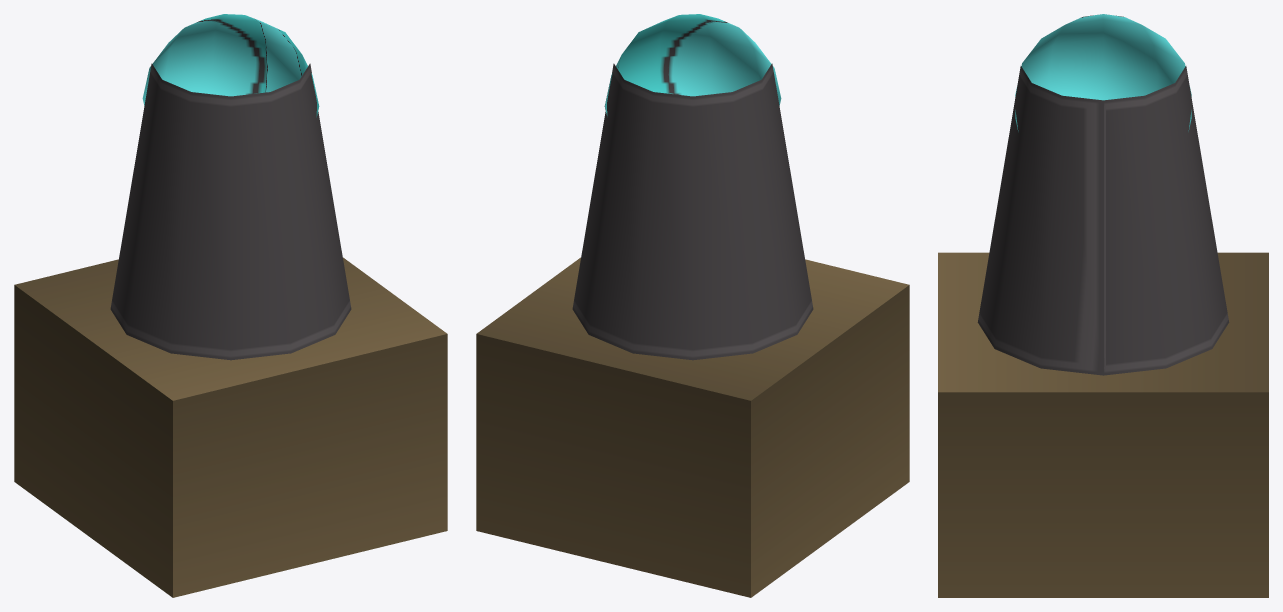
Rendered from panopticon_beacon.glb.
3 views of the same model, side by side, from view 1: azimuth 30°, elevation 25°; view 2: azimuth 150°, elevation 25°; view 3: azimuth 270°, elevation 25° (orthographic). The views are drawn at different scales.
Visible parts, largest first — view 1: panopticon_beacon; view 2: panopticon_beacon; view 3: panopticon_beacon.
Boxes of the visible parts, bbox=[...] form: panopticon_beacon: bbox=[14, 14, 447, 597]; panopticon_beacon: bbox=[476, 14, 909, 597]; panopticon_beacon: bbox=[938, 14, 1268, 597].
Size of the model in its own units: 1.4 by 2.36 by 1.4.
1 material, 1 textured.
